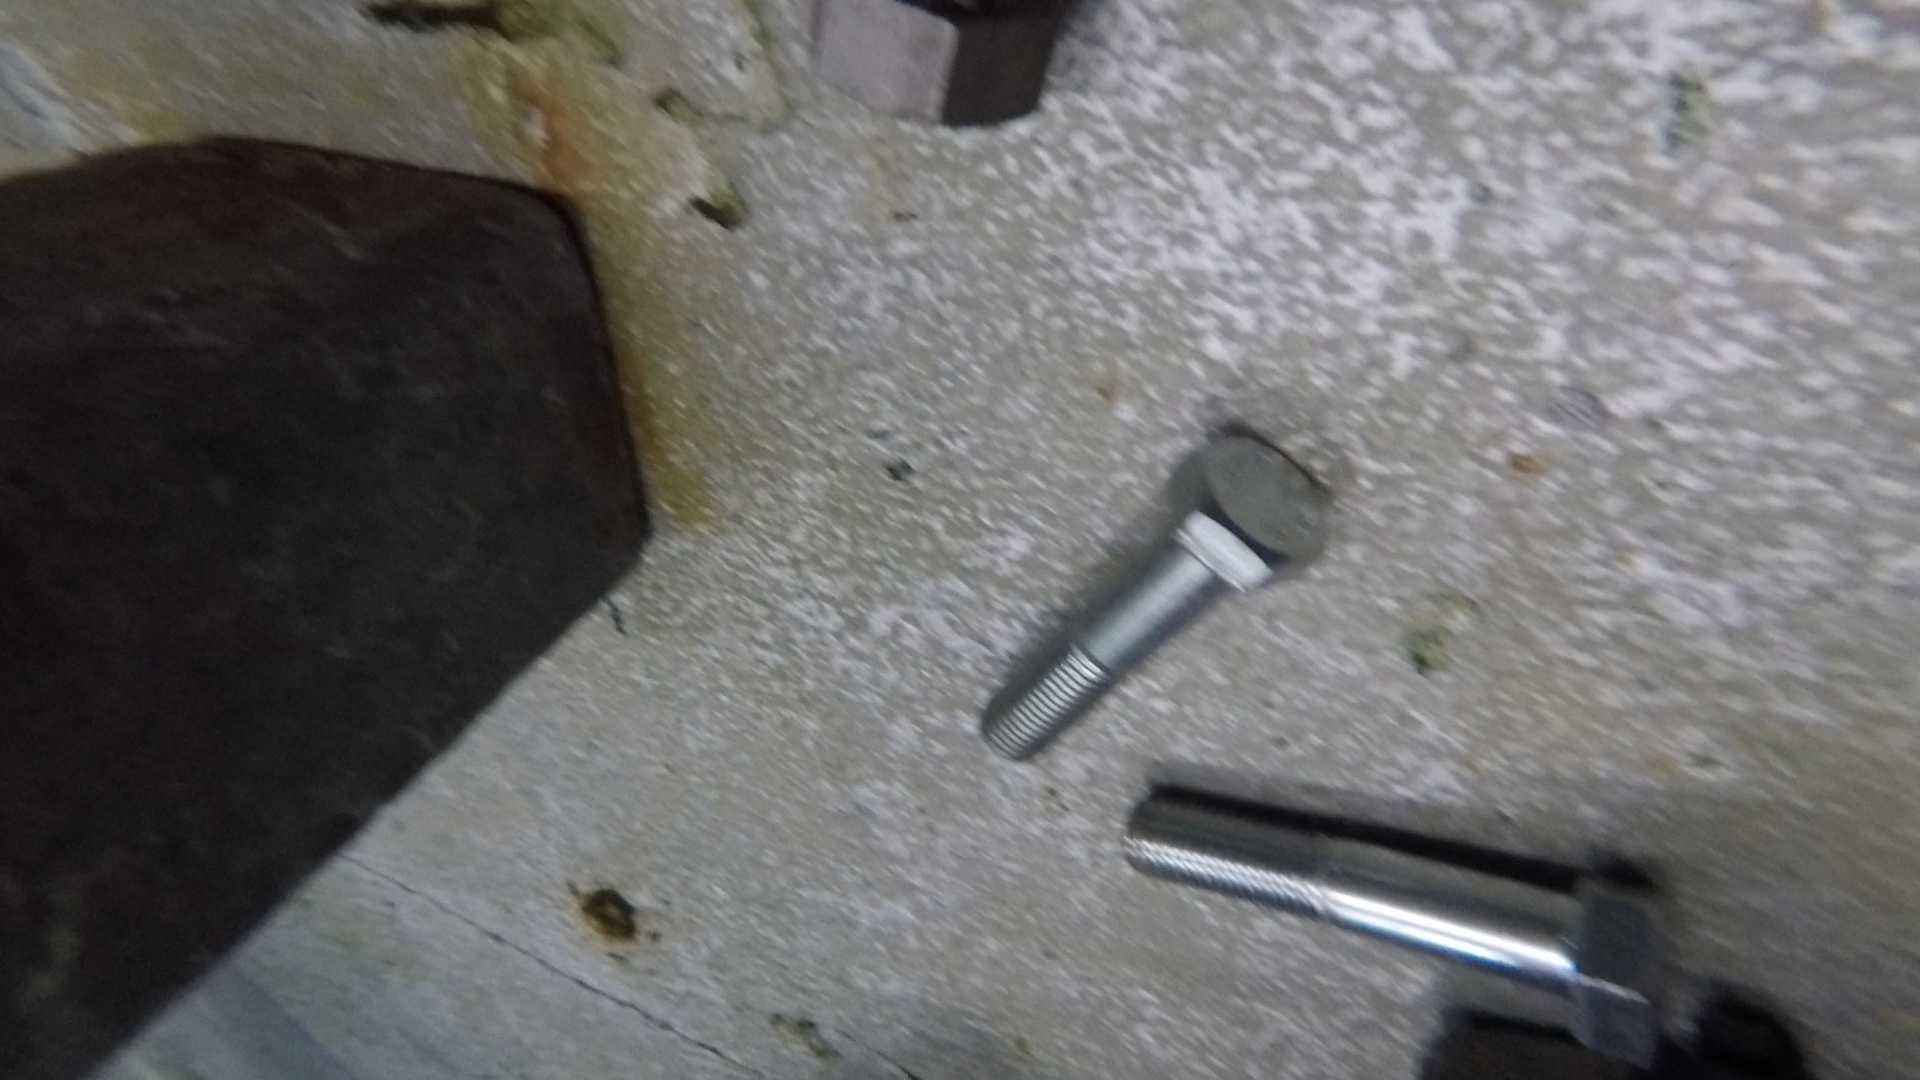bolt: (1124, 786, 1667, 1080), (980, 429, 1328, 760)
led_block: (1, 135, 653, 1079)
nut: (803, 1, 1060, 124)
